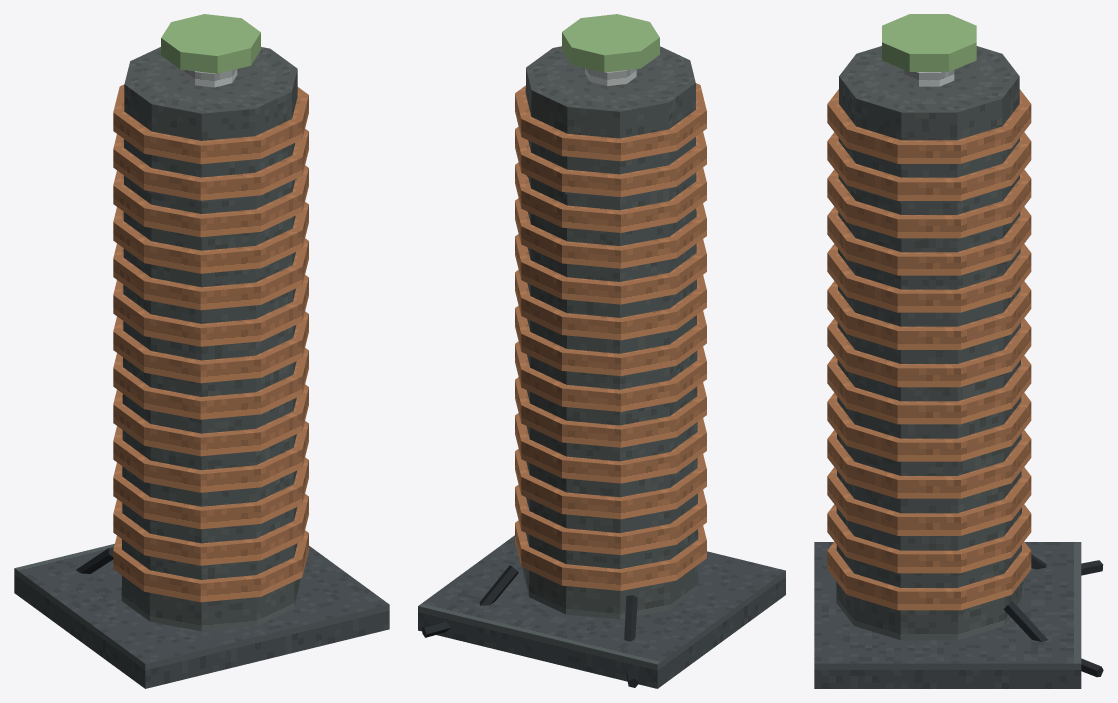
File: f_string_dimension_pylon.glb
3 views of the same model, side by side, from view 1: azimuth 30°, elevation 25°; view 2: azimuth 150°, elevation 25°; view 3: azimuth 270°, elevation 25° (orthographic). The views are drawn at different scales.
Parts seen in each view (by area): view 1: block_thick-copper-turn (×13), block_exodii-power-core-shell, block_industrial-power-footing, block_powered-core-cap, block_exodii-power-core-cap; view 2: block_thick-copper-turn (×13), block_exodii-power-core-shell, block_industrial-power-footing, block_powered-core-cap, block_exodii-power-core-cap, block_grounded-generator-cable-1; view 3: block_thick-copper-turn (×13), block_exodii-power-core-shell, block_industrial-power-footing, block_powered-core-cap, block_exodii-power-core-cap, block_grounded-generator-cable-1.
Part boxes in pixels (left/top/right/bottom): block_thick-copper-turn (×13): left=113, top=84, right=308, bottom=602; block_exodii-power-core-shell: left=121, top=47, right=300, bottom=631; block_industrial-power-footing: left=14, top=543, right=389, bottom=688; block_powered-core-cap: left=161, top=14, right=260, bottom=73; block_exodii-power-core-cap: left=184, top=69, right=237, bottom=87; block_thick-copper-turn (×13): left=515, top=83, right=706, bottom=590; block_exodii-power-core-shell: left=523, top=46, right=698, bottom=619; block_industrial-power-footing: left=418, top=535, right=785, bottom=688; block_powered-core-cap: left=562, top=14, right=659, bottom=72; block_exodii-power-core-cap: left=585, top=68, right=636, bottom=85; block_grounded-generator-cable-1: left=479, top=565, right=518, bottom=605; block_thick-copper-turn (×13): left=827, top=89, right=1031, bottom=610; block_exodii-power-core-shell: left=836, top=46, right=1022, bottom=640; block_industrial-power-footing: left=814, top=542, right=1081, bottom=688; block_powered-core-cap: left=882, top=14, right=976, bottom=71; block_exodii-power-core-cap: left=904, top=70, right=954, bottom=86; block_grounded-generator-cable-1: left=1003, top=601, right=1047, bottom=641.
Bounding box in the file's own units: 0.84 × 1.92 × 0.8454.
Materials: 1 (1 with a texture image).
